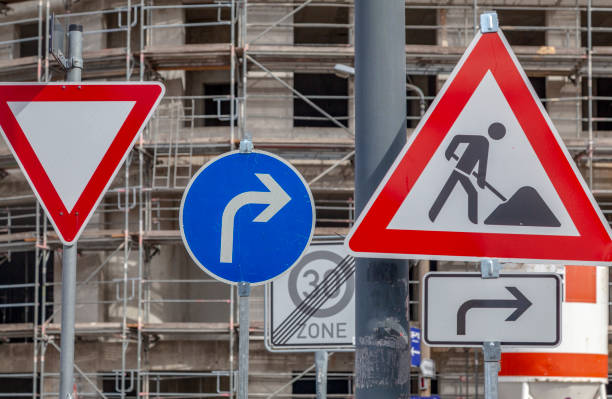ileriden_saga: (182, 149, 315, 280)
yol_calismasi_levha: (342, 7, 611, 262)
